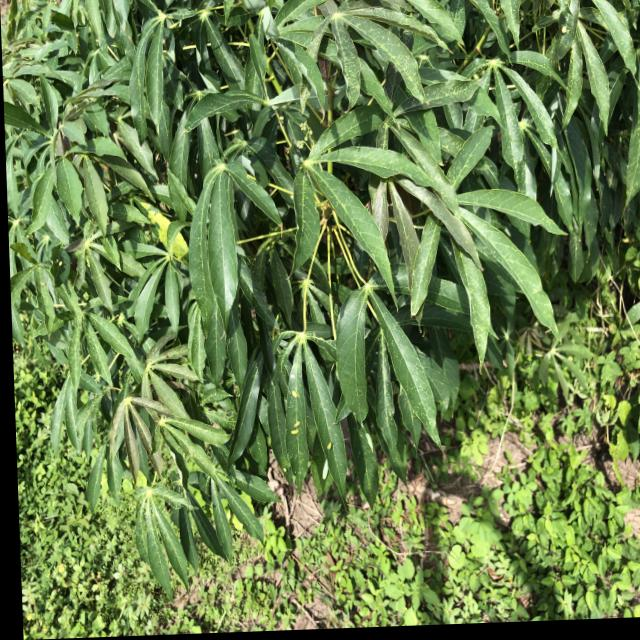Maleza: (491, 371, 640, 640), (267, 528, 614, 640)
Mosca: (288, 421, 302, 443), (287, 386, 303, 398), (322, 437, 333, 454)
